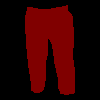pantaloni: (24, 4, 75, 94)
